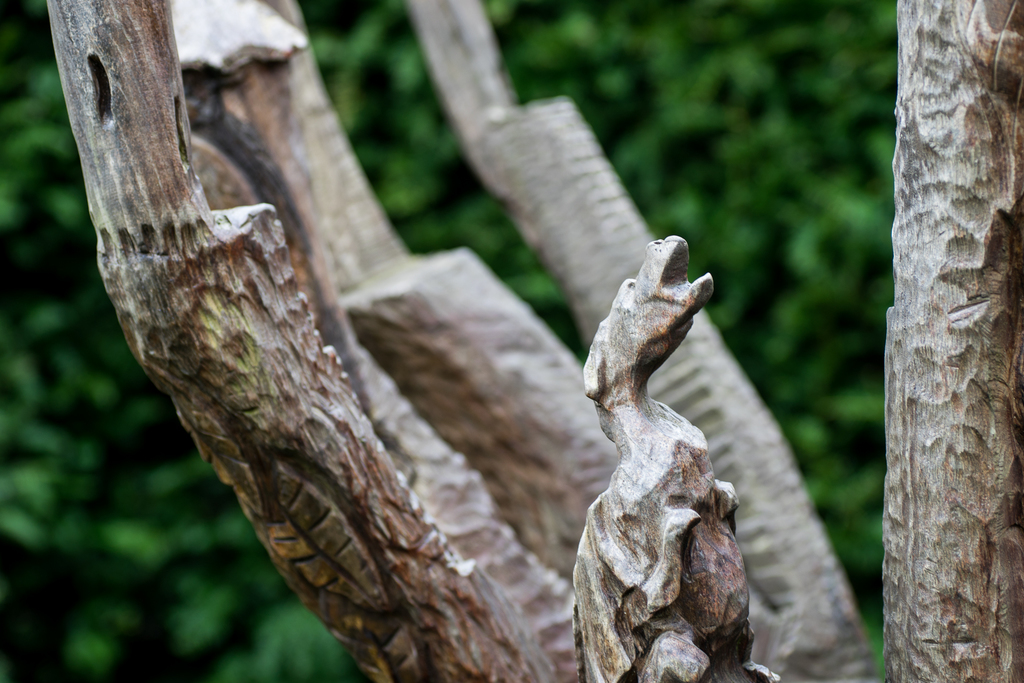Animal: (568, 233, 779, 682)
